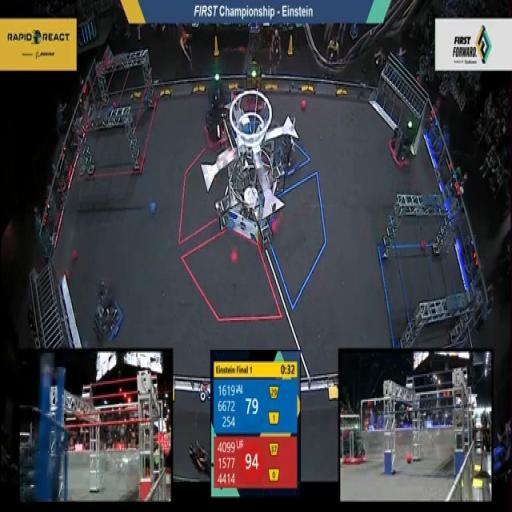robot: (86, 276, 126, 344), (202, 67, 234, 152), (270, 110, 302, 184), (238, 46, 270, 115), (386, 111, 416, 172)
